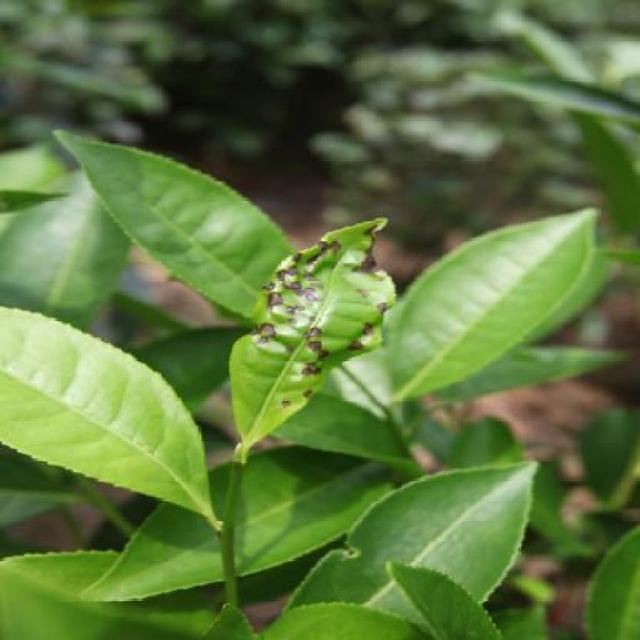Tea Mosquito bug infested leaf: (231, 210, 392, 488)
